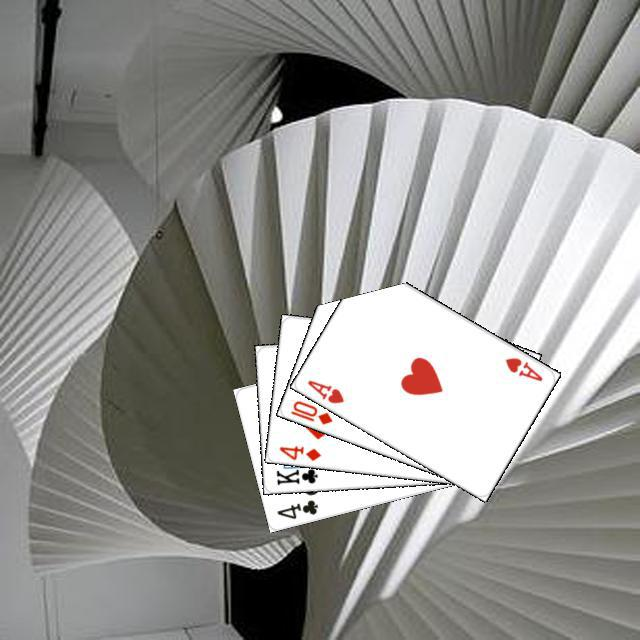10d: (285, 395, 334, 426)
4c: (272, 495, 320, 521)
4d: (274, 441, 322, 463)
Ah: (500, 352, 544, 383), (302, 375, 346, 405)
Kc: (271, 460, 323, 487)
